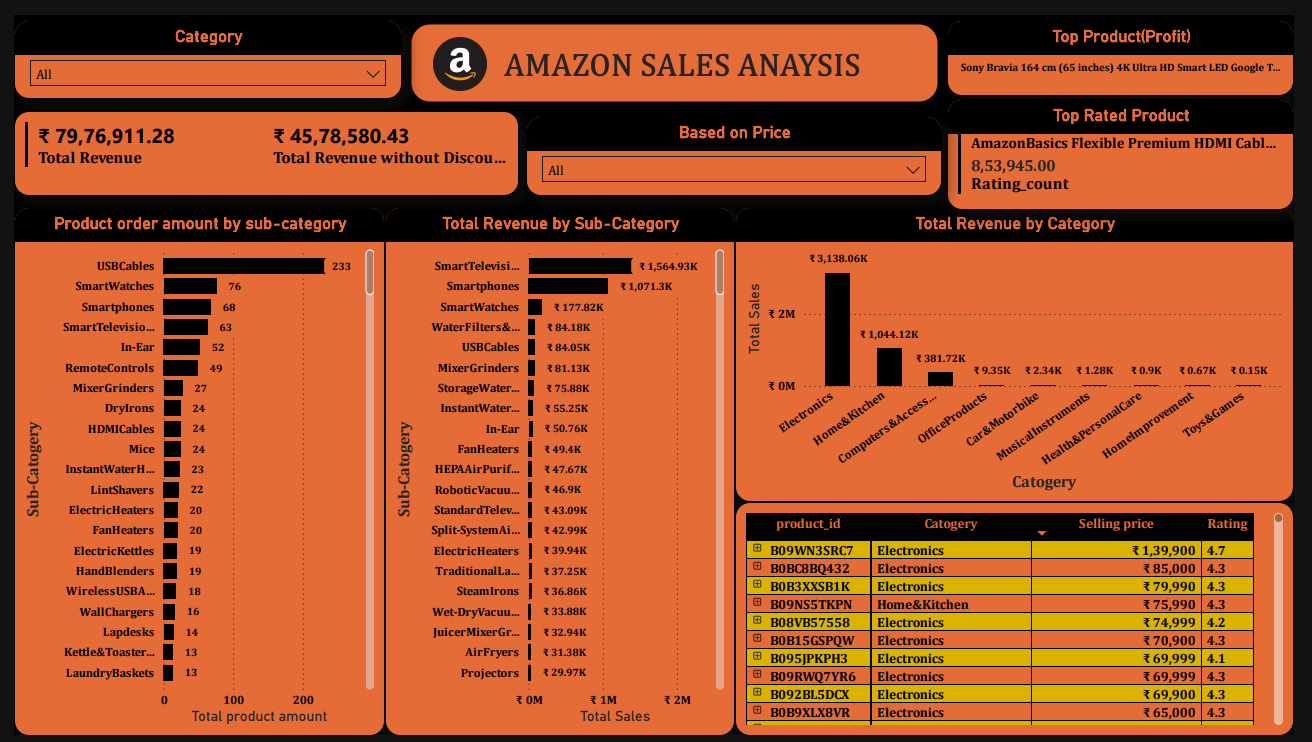

The dashboard page shown, as its layout file describes it:
{"tool":"powerbi","page":{"name":"Page 1","canvas":[1280,720],"ordinal":0},"visuals":[{"type":"shape","box":[387.6,0,545,96.1],"z":0},{"type":"image","box":[405.8,16.6,79.5,64.6],"z":1000},{"type":"textbox","box":[485.3,28.2,384.3,48],"z":2000},{"type":"barChart","title":"Product order amount by sub-category","fields":{"Category":["amazon.Sub-Catogery"],"Y":["amazon.Total product amount"]},"box":[0,192.2,371.1,528.4],"z":3000},{"type":"barChart","title":"Total Revenue by Sub-Category","fields":{"Category":["amazon.Sub-Catogery"],"Y":["amazon.Total Sales"]},"box":[371.1,192.2,349.5,528.4],"z":4000},{"type":"slicer","title":"Category","fields":{"Values":["amazon.Catogery"]},"box":[0,5,387.6,79.5],"z":5000},{"type":"multiRowCard","title":"Product order amount by sub-category","fields":{"Values":["amazon.Total sales without discount price","amazon.Total Sales"]},"box":[0,96.1,505.2,84.5],"z":6000},{"type":"clusteredColumnChart","title":"Total Revenue by Category","fields":{"Y":["amazon.Total Sales"],"Category":["amazon.Catogery"]},"box":[720.6,192.2,559.9,294.9],"z":7000},{"type":"card","title":"Top Product(Profit)","fields":{"Values":["Min(amazon.product_name)"]},"box":[932.6,5,347.9,76.2],"z":8000},{"type":"multiRowCard","title":"Top Rated Product","fields":{"Values":["Min(amazon.product_name)","Sum(amazon.rating_count)"]},"box":[932.6,84.5,347.9,111],"z":9000},{"type":"pivotTable","title":"Total Revenue by Category","fields":{"Values":["Min(amazon.Catogery)","Sum(amazon.actual_price)","Min(amazon.rating)"],"Rows":["amazon.product_id","amazon.product_name"]},"box":[720.6,487,559.9,233.6],"z":10000},{"type":"slicer","title":"Based on Price","fields":{"Values":["amazon.actual_price"]},"box":[511.9,101,415.8,79.5],"z":11000}]}

Visuals, with their boxes in screenshot pixels (x1, y1, x2, y2), scaled from the page's 1280x720 canvas onto the 1312x742 screenshot:
shape: locate(397, 0, 956, 99)
image: locate(416, 17, 497, 84)
textbox: locate(497, 29, 891, 79)
"Product order amount by sub-category" barChart: locate(0, 198, 380, 741)
"Total Revenue by Sub-Category" barChart: locate(380, 198, 739, 741)
"Category" slicer: locate(0, 5, 397, 87)
"Product order amount by sub-category" multiRowCard: locate(0, 99, 518, 186)
"Total Revenue by Category" clusteredColumnChart: locate(739, 198, 1311, 502)
"Top Product(Profit)" card: locate(956, 5, 1311, 84)
"Top Rated Product" multiRowCard: locate(956, 87, 1311, 201)
"Total Revenue by Category" pivotTable: locate(739, 502, 1311, 741)
"Based on Price" slicer: locate(525, 104, 951, 186)
